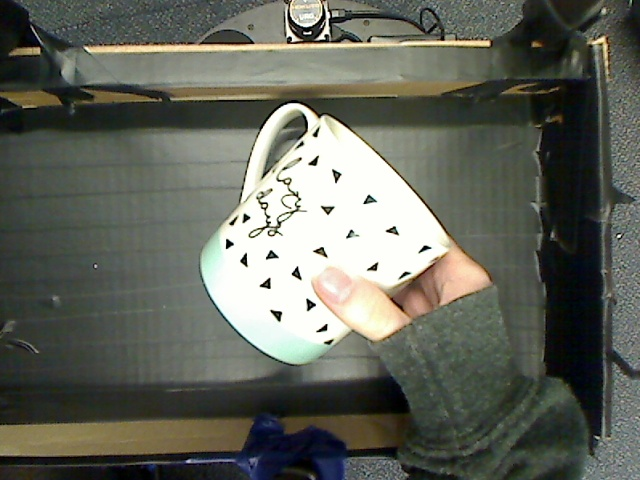mug: (176, 108, 477, 375)
